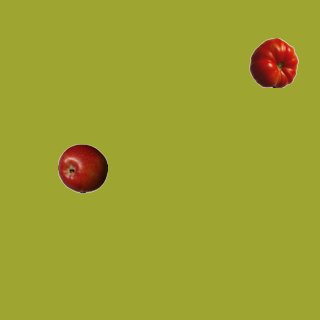Apple Braeburn: (57, 143, 107, 193)
Tomato 3: (248, 37, 298, 87)
